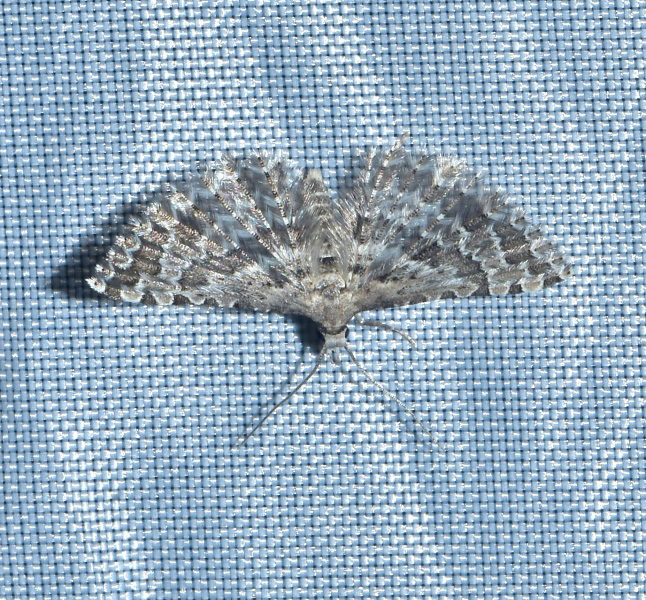Alucitidae: (70, 135, 573, 445)
moth: (72, 137, 575, 447)
